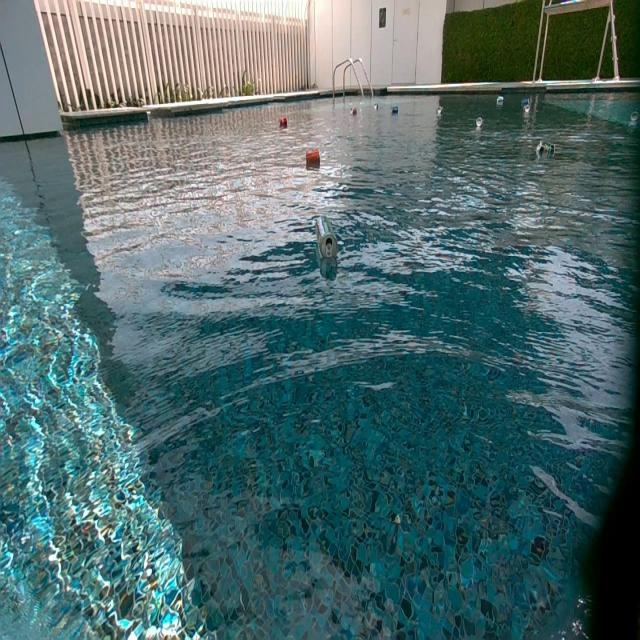Cans: (313, 216, 336, 262), (535, 140, 554, 158), (307, 146, 320, 163), (279, 114, 288, 127), (630, 111, 640, 122), (473, 116, 482, 128), (496, 96, 504, 108), (350, 106, 358, 116), (391, 106, 398, 116), (522, 98, 530, 105), (438, 105, 443, 115), (525, 106, 531, 113), (374, 103, 379, 111)
